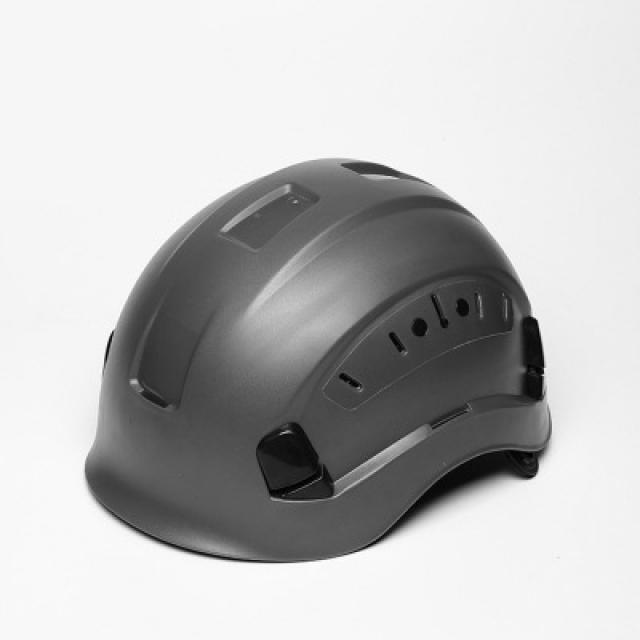safety_helmet: (83, 158, 552, 566)
